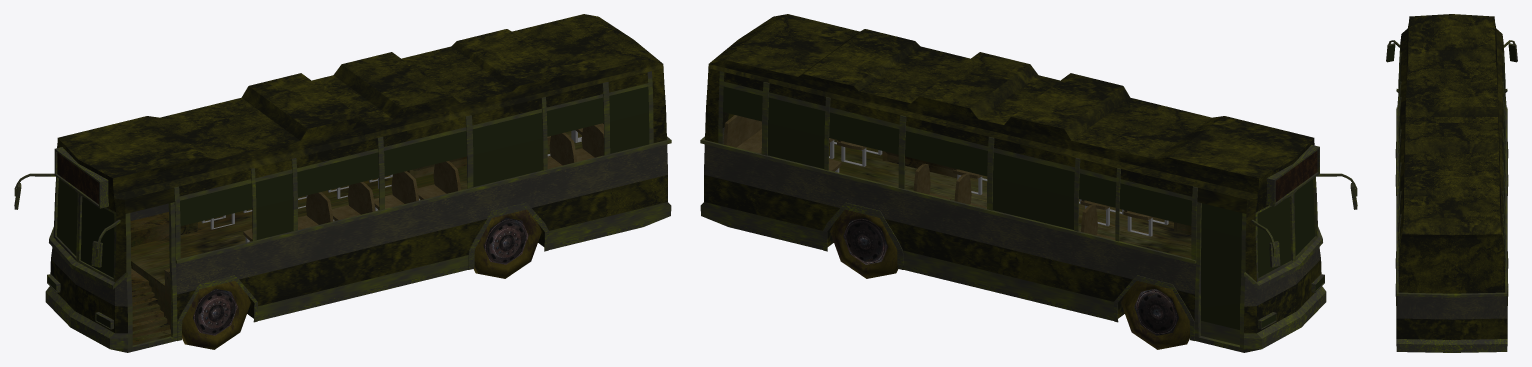
File: BUS2.fbx
3 renders of one model, left to right at view 1: azimuth 30°, elevation 25°; view 2: azimuth 150°, elevation 25°; view 3: azimuth 270°, elevation 25°, orthographic. The views are drawn at different scales.
Parts seen in each view (by area): view 1: Cube.003, Cube.005, Cube.001, Cube.004, Cube.006, Cube.002, Circle.001, Cube.063, Cube.007, Circle.005, Circle.002, Circle.004 (+8 smaller); view 2: Cube.003, Cube.005, Cube.001, Cube.004, Cube.006, Cube.002, Circle.001, Circle.005, Circle.002, Circle.004, Cube.057, Cube.049 (+2 smaller); view 3: Cube.003, Cube.001, Cube.004, Cube.005, Cube.002, Cube.010.
Boxes of the visible parts, x1,y1,x2,y2 form: Cube.003: (50, 14, 667, 333); Cube.005: (57, 86, 649, 277); Cube.001: (45, 71, 671, 349); Cube.004: (51, 144, 667, 306); Cube.006: (131, 131, 582, 316); Cube.002: (111, 202, 669, 352); Circle.001: (182, 281, 250, 349); Cube.063: (131, 268, 170, 345); Cube.007: (130, 156, 466, 329); Circle.005: (473, 209, 541, 278); Circle.002: (484, 217, 528, 264); Circle.004: (193, 288, 237, 335); Cube.003: (704, 14, 1321, 333); Cube.005: (723, 86, 1314, 329); Cube.001: (700, 71, 1326, 349); Cube.004: (704, 127, 1320, 306); Cube.006: (829, 139, 1191, 258); Cube.002: (702, 202, 1260, 352); Circle.001: (1121, 281, 1189, 349); Circle.005: (830, 209, 898, 278); Circle.002: (843, 217, 887, 264); Circle.004: (1134, 288, 1178, 335); Cube.057: (1275, 151, 1317, 202); Cube.049: (723, 115, 761, 147); Cube.003: (1396, 14, 1507, 339); Cube.001: (1396, 45, 1507, 352); Cube.004: (1396, 296, 1507, 319); Cube.005: (1398, 65, 1504, 283); Cube.002: (1395, 142, 1508, 305); Cube.010: (1387, 44, 1516, 62).
Size of the model in its own units: 1488 by 475 by 375.
